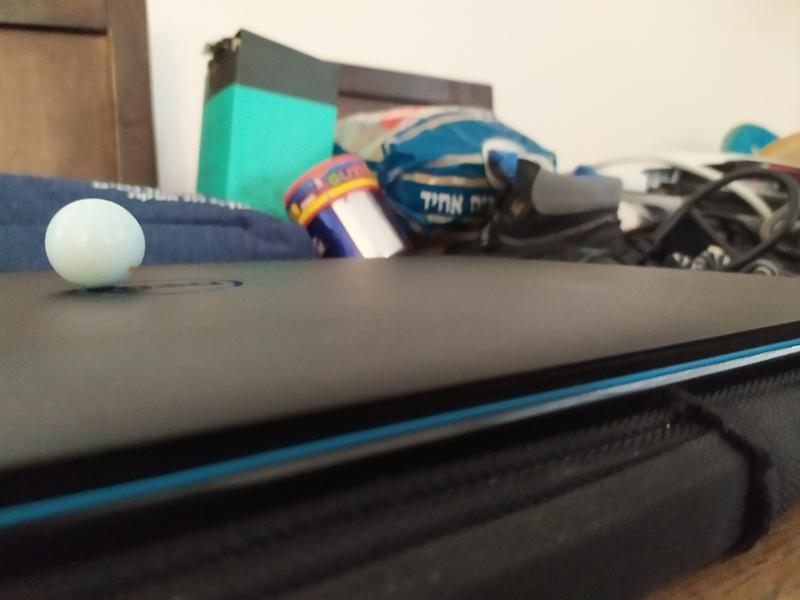Warning: (43, 195, 148, 292)
